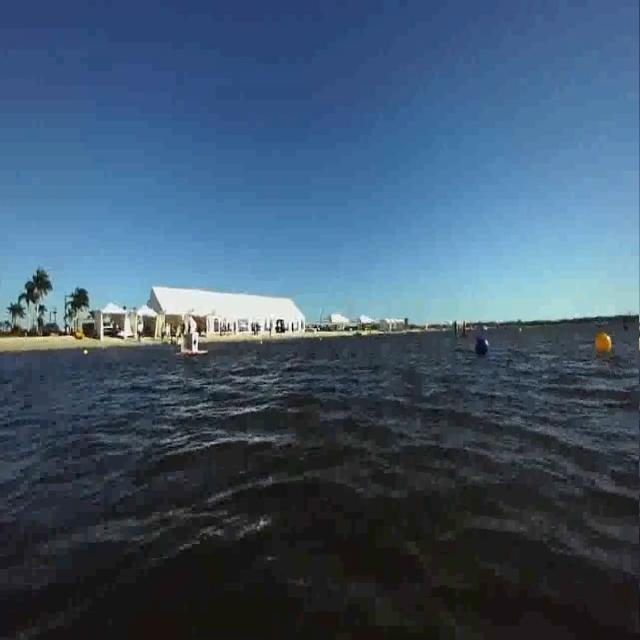blue-buoy: (475, 335, 491, 358)
yellow-buoy: (594, 332, 612, 356)
